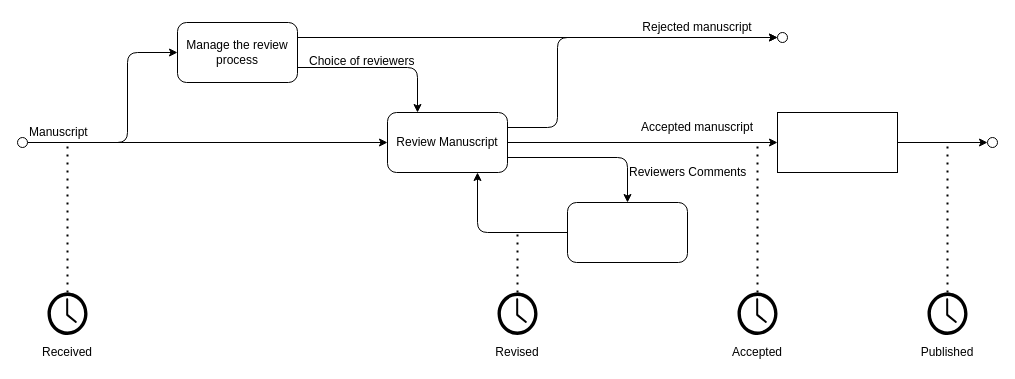
The diagram is 1015 pixels wide and 379 high, and some of its shapes have lost their labels. The centre of each missing label's shape, as x and y in pixels:
"Publication" goes at pixel 837 142.
"Revise Manuscript" goes at pixel 627 232.
